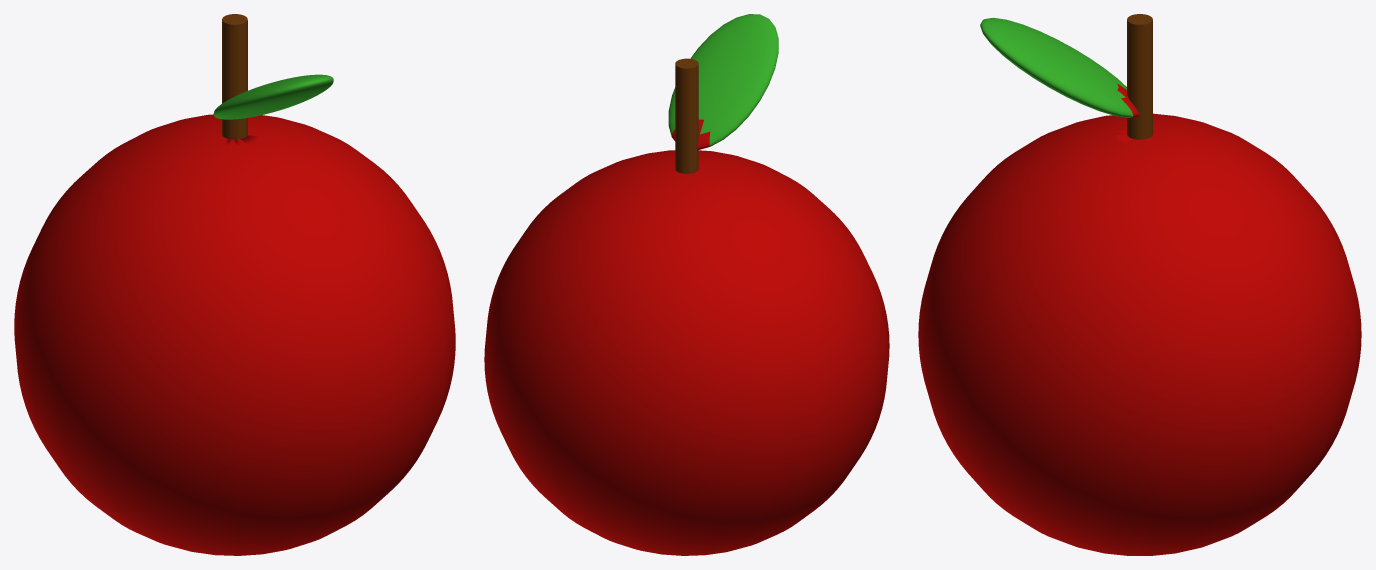
File: Apfel_New.fbx
The picture shows the model from 3 angles, left to right: view 1: azimuth 30°, elevation 25°; view 2: azimuth 150°, elevation 25°; view 3: azimuth 270°, elevation 25°; orthographic projection. The views are drawn at different scales.
Parts seen in each view (by area): view 1: Apfel new; view 2: Apfel new; view 3: Apfel new.
Boxes of the visible parts, x1,y1,x2,y2 form: Apfel new: [14, 14, 455, 555]; Apfel new: [484, 14, 889, 555]; Apfel new: [918, 14, 1361, 555].
Bounding box in the file's own units: 0.3792 × 0.4913 × 0.382.
